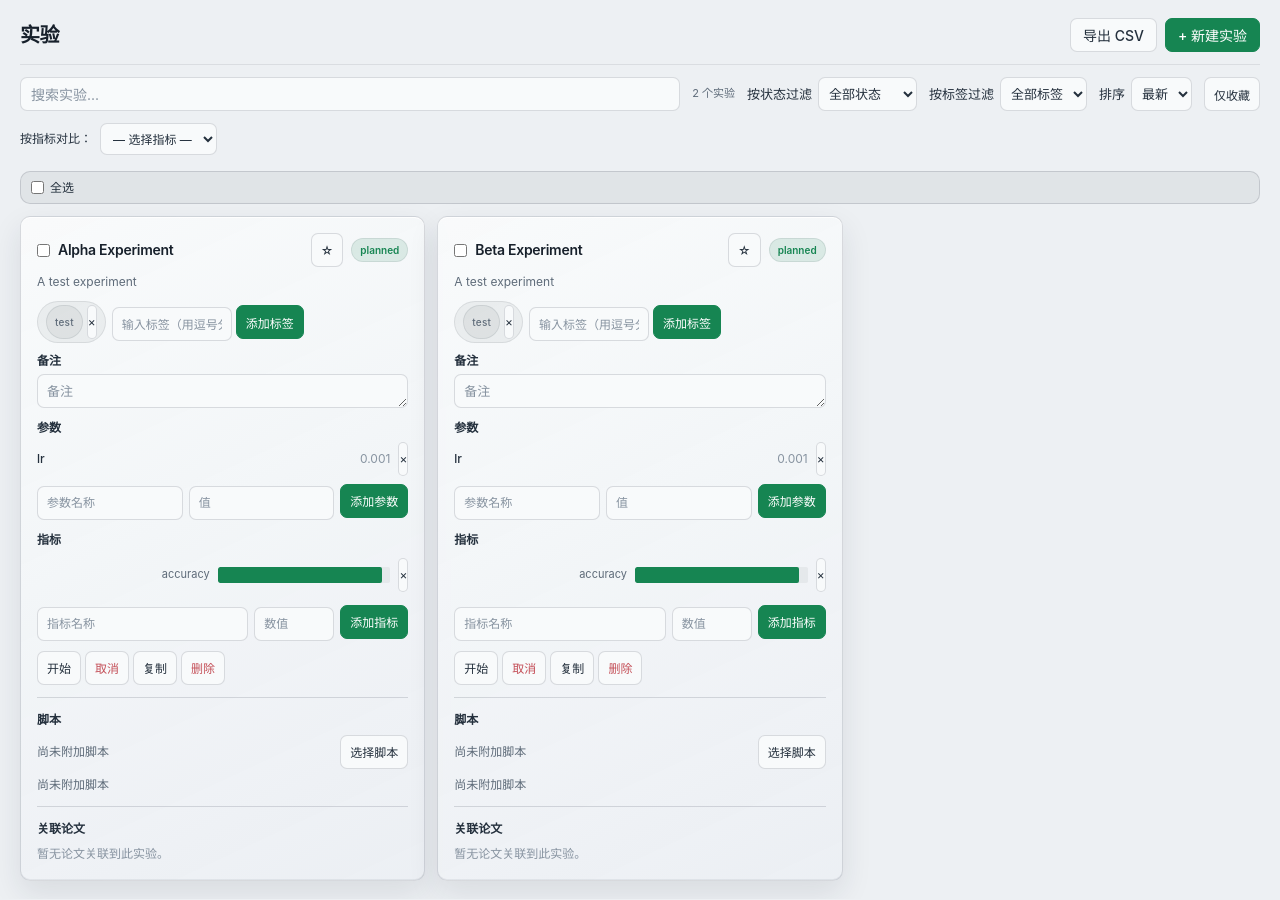
Scenario: ExperimentsPage › should display the experiment result count
expect the text "2 个实验" is shown: met, box [692,85,735,103]
Type "Alpha" into the field with placeholder "搜索实验..." at {"x": 350, "y": 94}, box [20,77,680,111]
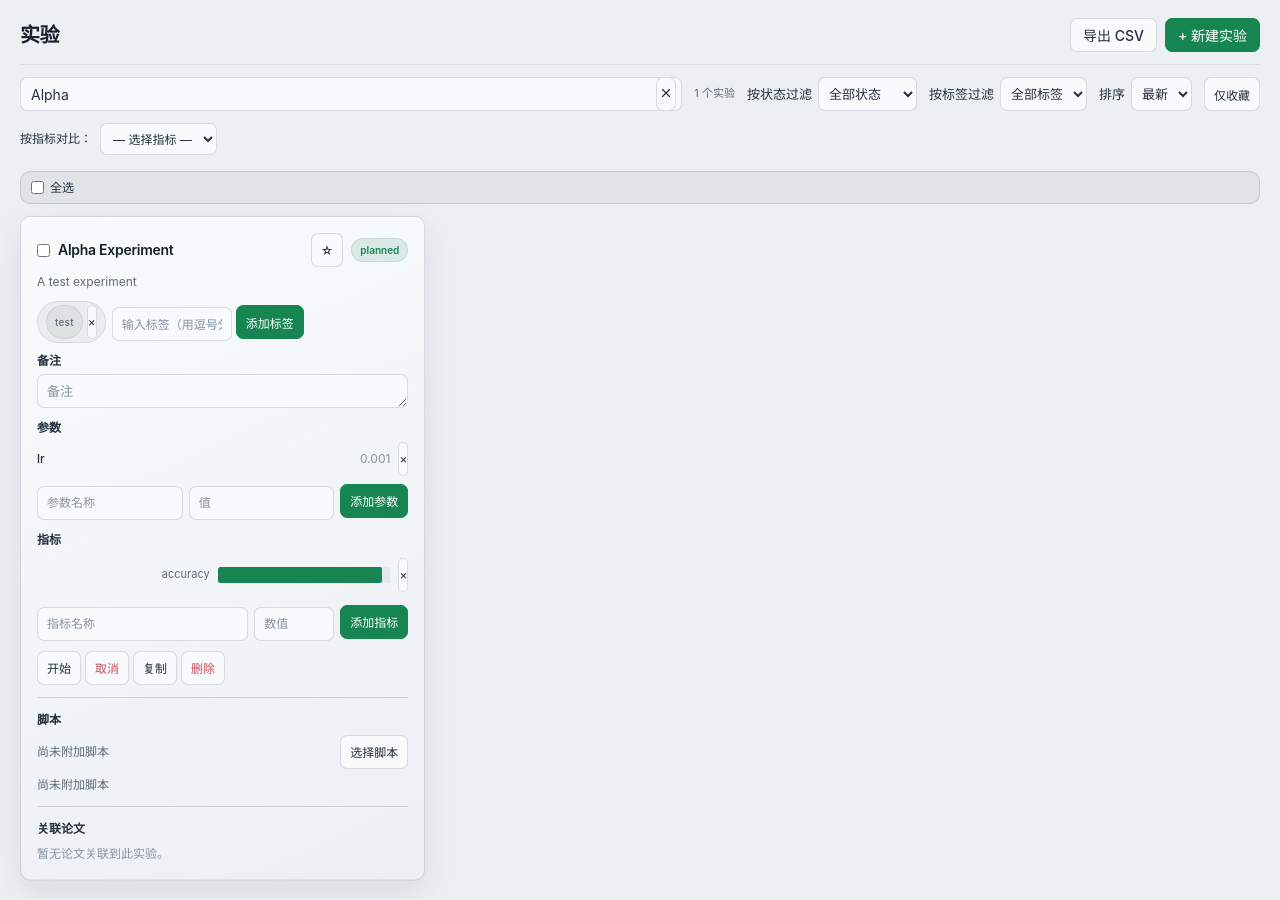
expect the text "1 个实验" is shown: met, box [694,85,735,103]
